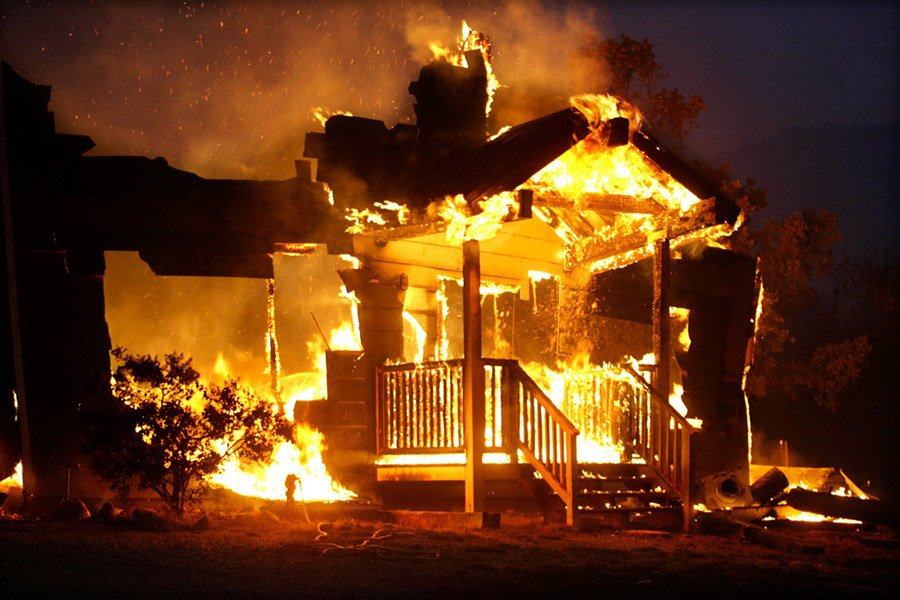fire: (60, 16, 751, 519)
